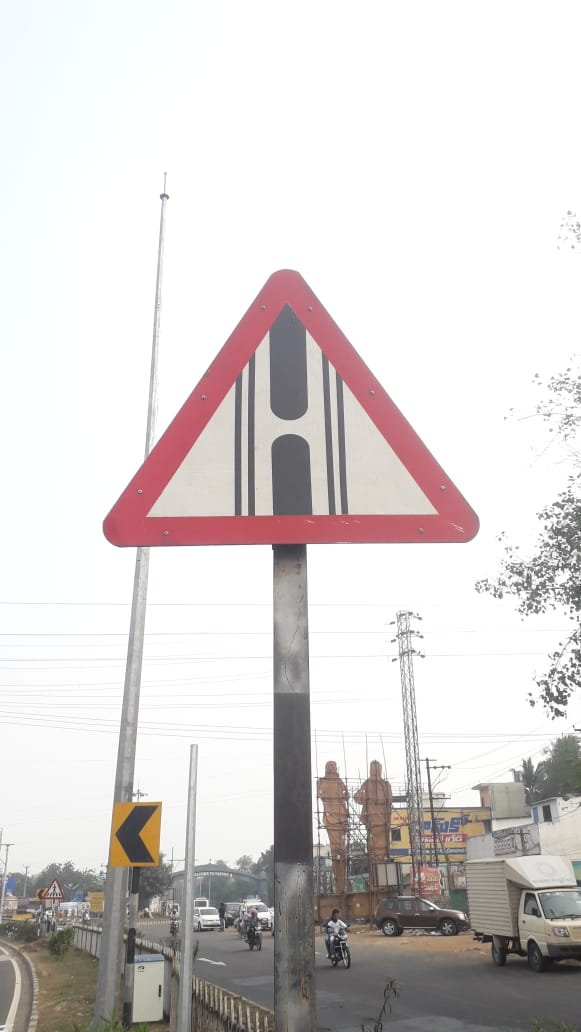highway go straight: (102, 259, 512, 575)
